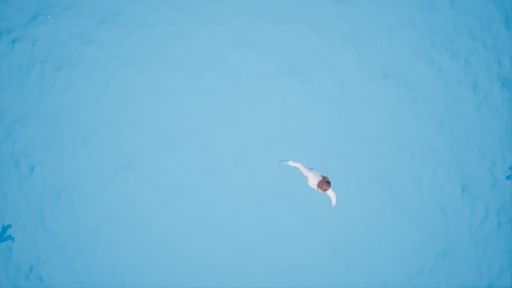person: (274, 161, 348, 209)
